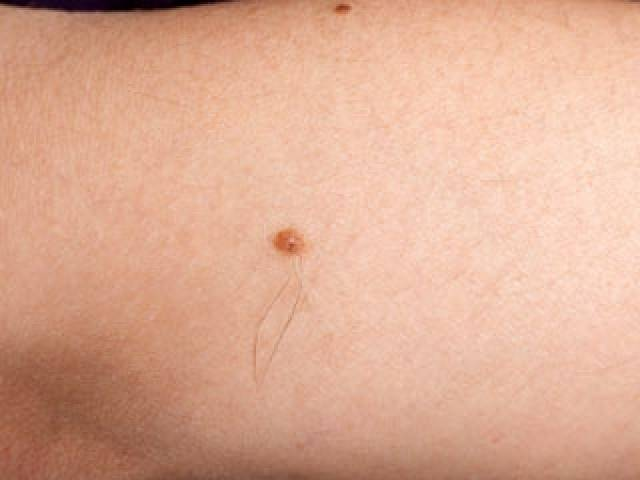mole: (247, 198, 321, 270), (309, 1, 374, 56)
